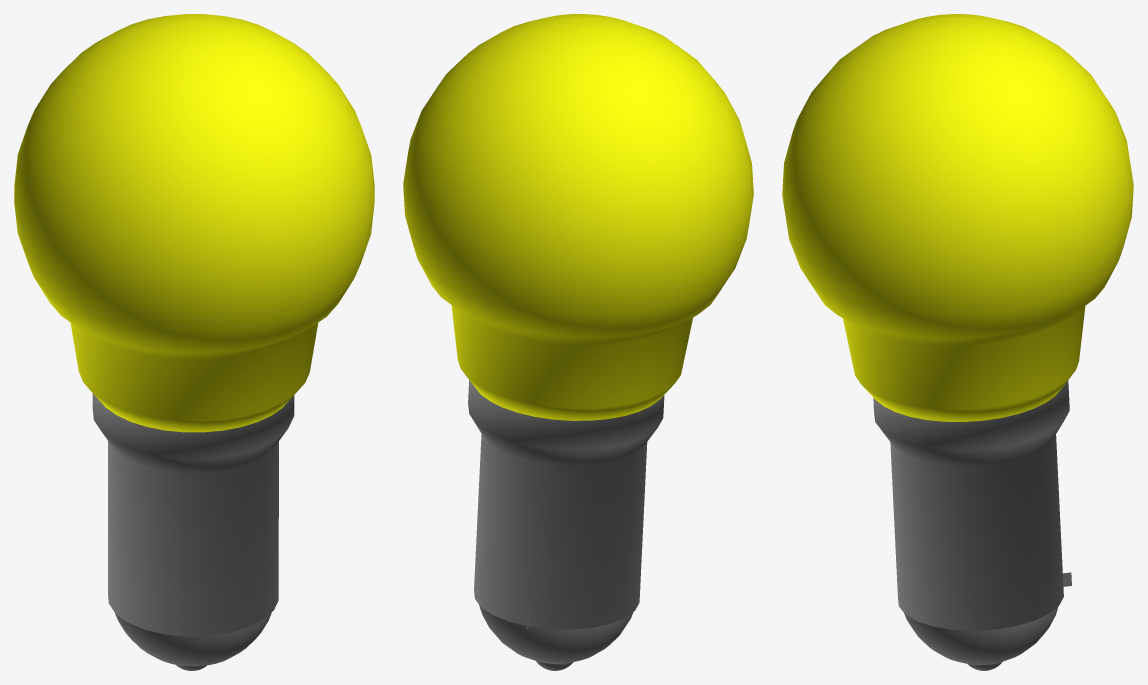
File: bulb.glb
The picture shows the model from 3 angles, left to right: view 1: azimuth 30°, elevation 25°; view 2: azimuth 150°, elevation 25°; view 3: azimuth 270°, elevation 25°; orthographic projection. The views are drawn at different scales.
Parts seen in each view (by area): view 1: Sphere.003_7, Circle.001_6, Sphere_2; view 2: Sphere.003_7, Circle.001_6, Sphere_2; view 3: Sphere.003_7, Circle.001_6, Sphere_2.
Part boxes in pixels (bbox=[...]): Sphere.003_7: bbox=[14, 14, 374, 432]; Circle.001_6: bbox=[92, 393, 294, 636]; Sphere_2: bbox=[115, 613, 271, 666]; Sphere.003_7: bbox=[403, 14, 753, 420]; Circle.001_6: bbox=[468, 380, 664, 629]; Sphere_2: bbox=[479, 605, 633, 663]; Sphere.003_7: bbox=[782, 14, 1133, 421]; Circle.001_6: bbox=[873, 380, 1069, 630]; Sphere_2: bbox=[904, 606, 1058, 664].
Size of the model in its own units: 3.09 by 6.13 by 3.08.
